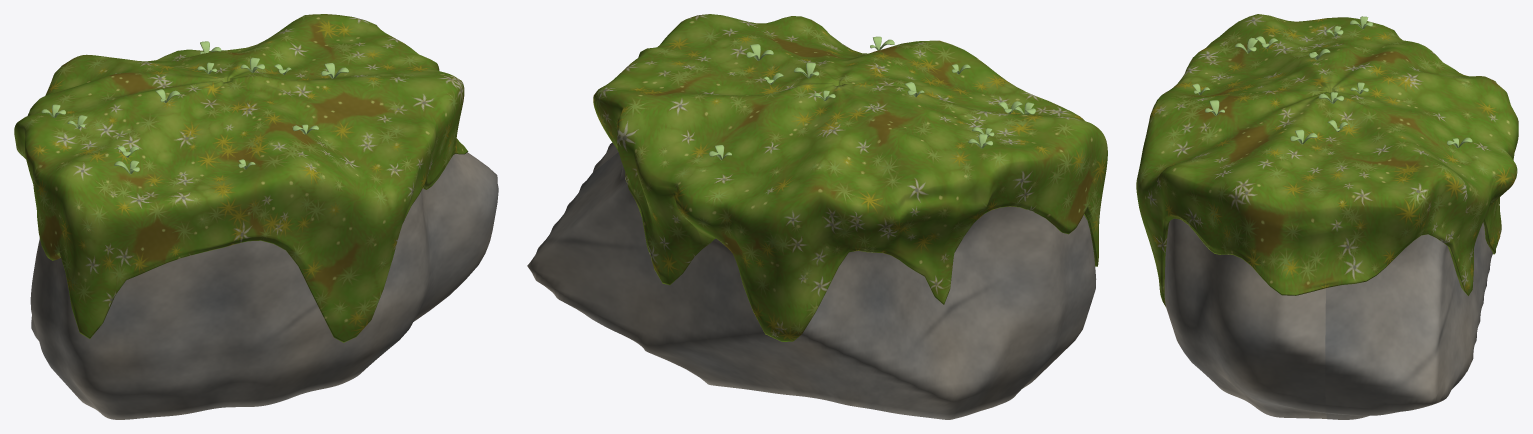
The model's file is SM_Valley_CreepingMossBoulder.fbx.
3 views of the same model, side by side, from view 1: azimuth 30°, elevation 25°; view 2: azimuth 150°, elevation 25°; view 3: azimuth 270°, elevation 25° (orthographic). The views are drawn at different scales.
Visible parts, largest first — view 1: SM_Valley_CreepingMossBoulder; view 2: SM_Valley_CreepingMossBoulder; view 3: SM_Valley_CreepingMossBoulder.
Part boxes in pixels (x1,y1,x2,y2): SM_Valley_CreepingMossBoulder: (14, 14, 498, 419); SM_Valley_CreepingMossBoulder: (527, 14, 1107, 419); SM_Valley_CreepingMossBoulder: (1136, 14, 1518, 419).
Bounding box in the file's own units: 121 × 90.58 × 72.46.
3 materials, 2 textured.
